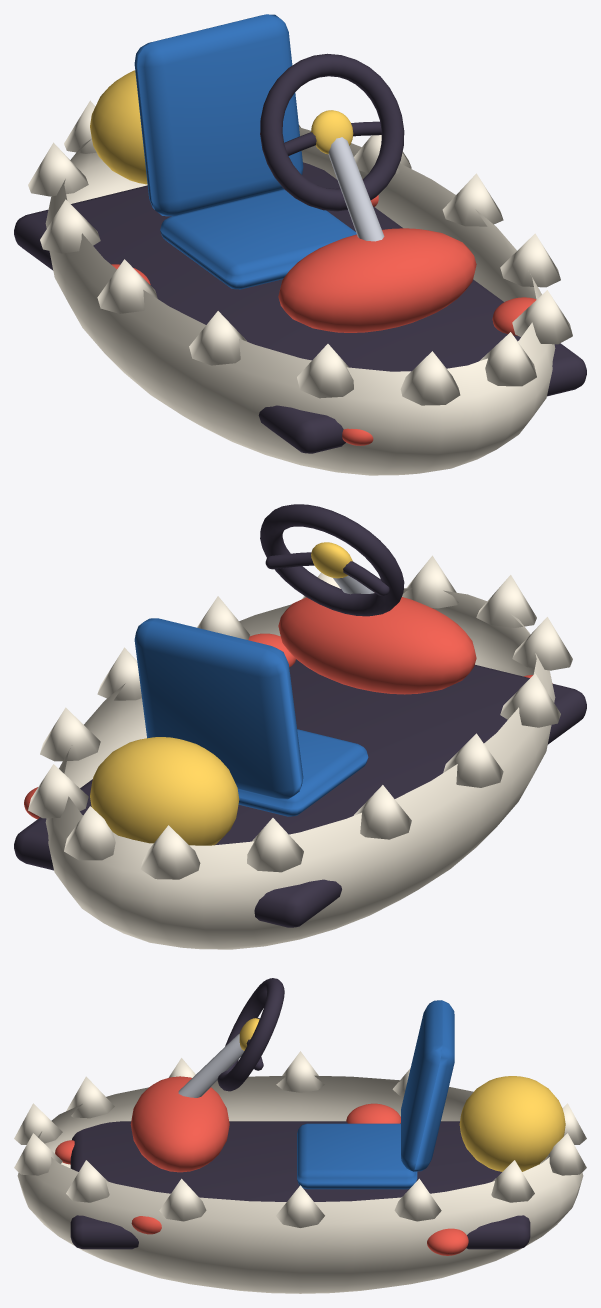
The model's file is kart_egg.glb.
3 renders of one model, top to bottom at view 1: azimuth 30°, elevation 25°; view 2: azimuth 150°, elevation 25°; view 3: azimuth 270°, elevation 25°, orthographic. The views are drawn at different scales.
Parts seen in each view (by area): view 1: kart_egg; view 2: kart_egg; view 3: kart_egg.
Boxes of the visible parts, left/top/right/bottom form: kart_egg: left=14, top=14, right=586, bottom=475; kart_egg: left=14, top=504, right=586, bottom=949; kart_egg: left=14, top=978, right=586, bottom=1293.
Size of the model in its own units: 1.02 by 0.8974 by 1.62.
